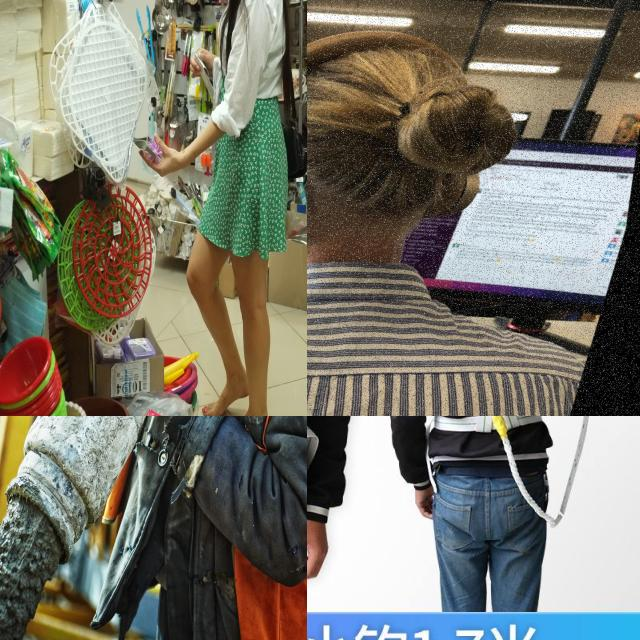Barefoots: (202, 372, 253, 416)
Ear-protection: (307, 8, 546, 306)
Harness: (423, 416, 552, 525)
person: (134, 416, 307, 640)
vest: (220, 416, 307, 640)
